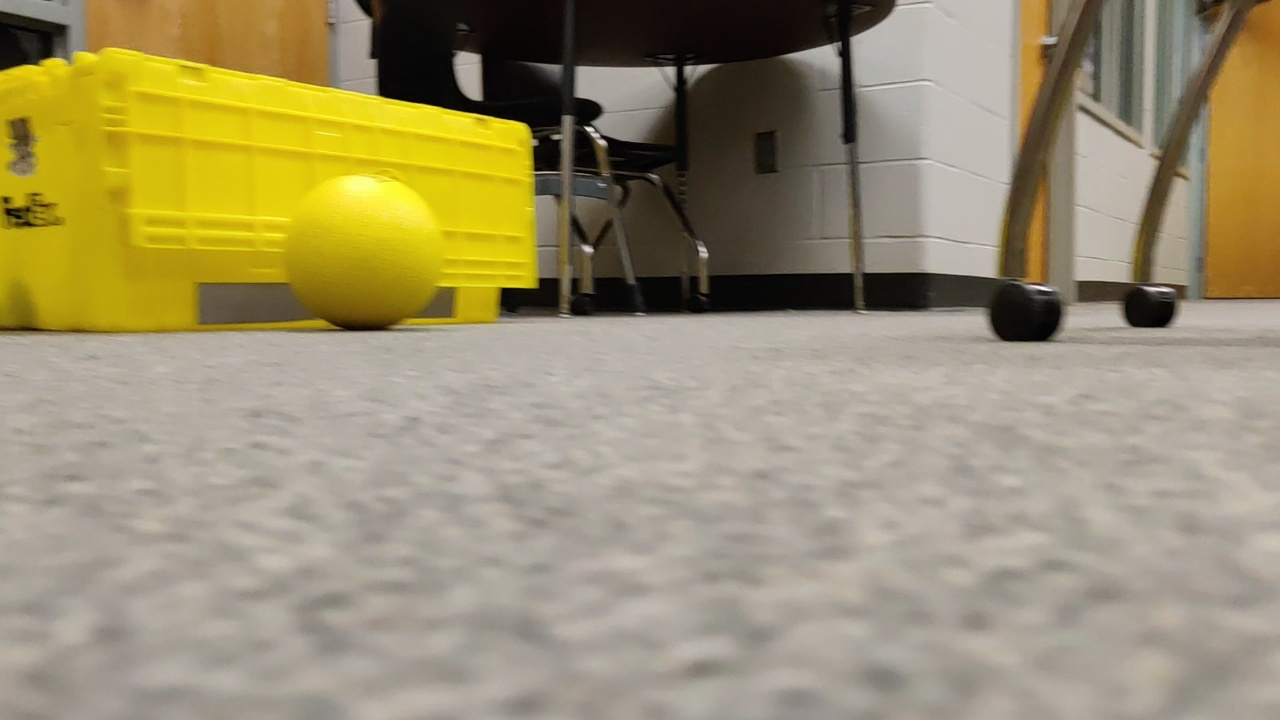Ball: (287, 174, 443, 331)
